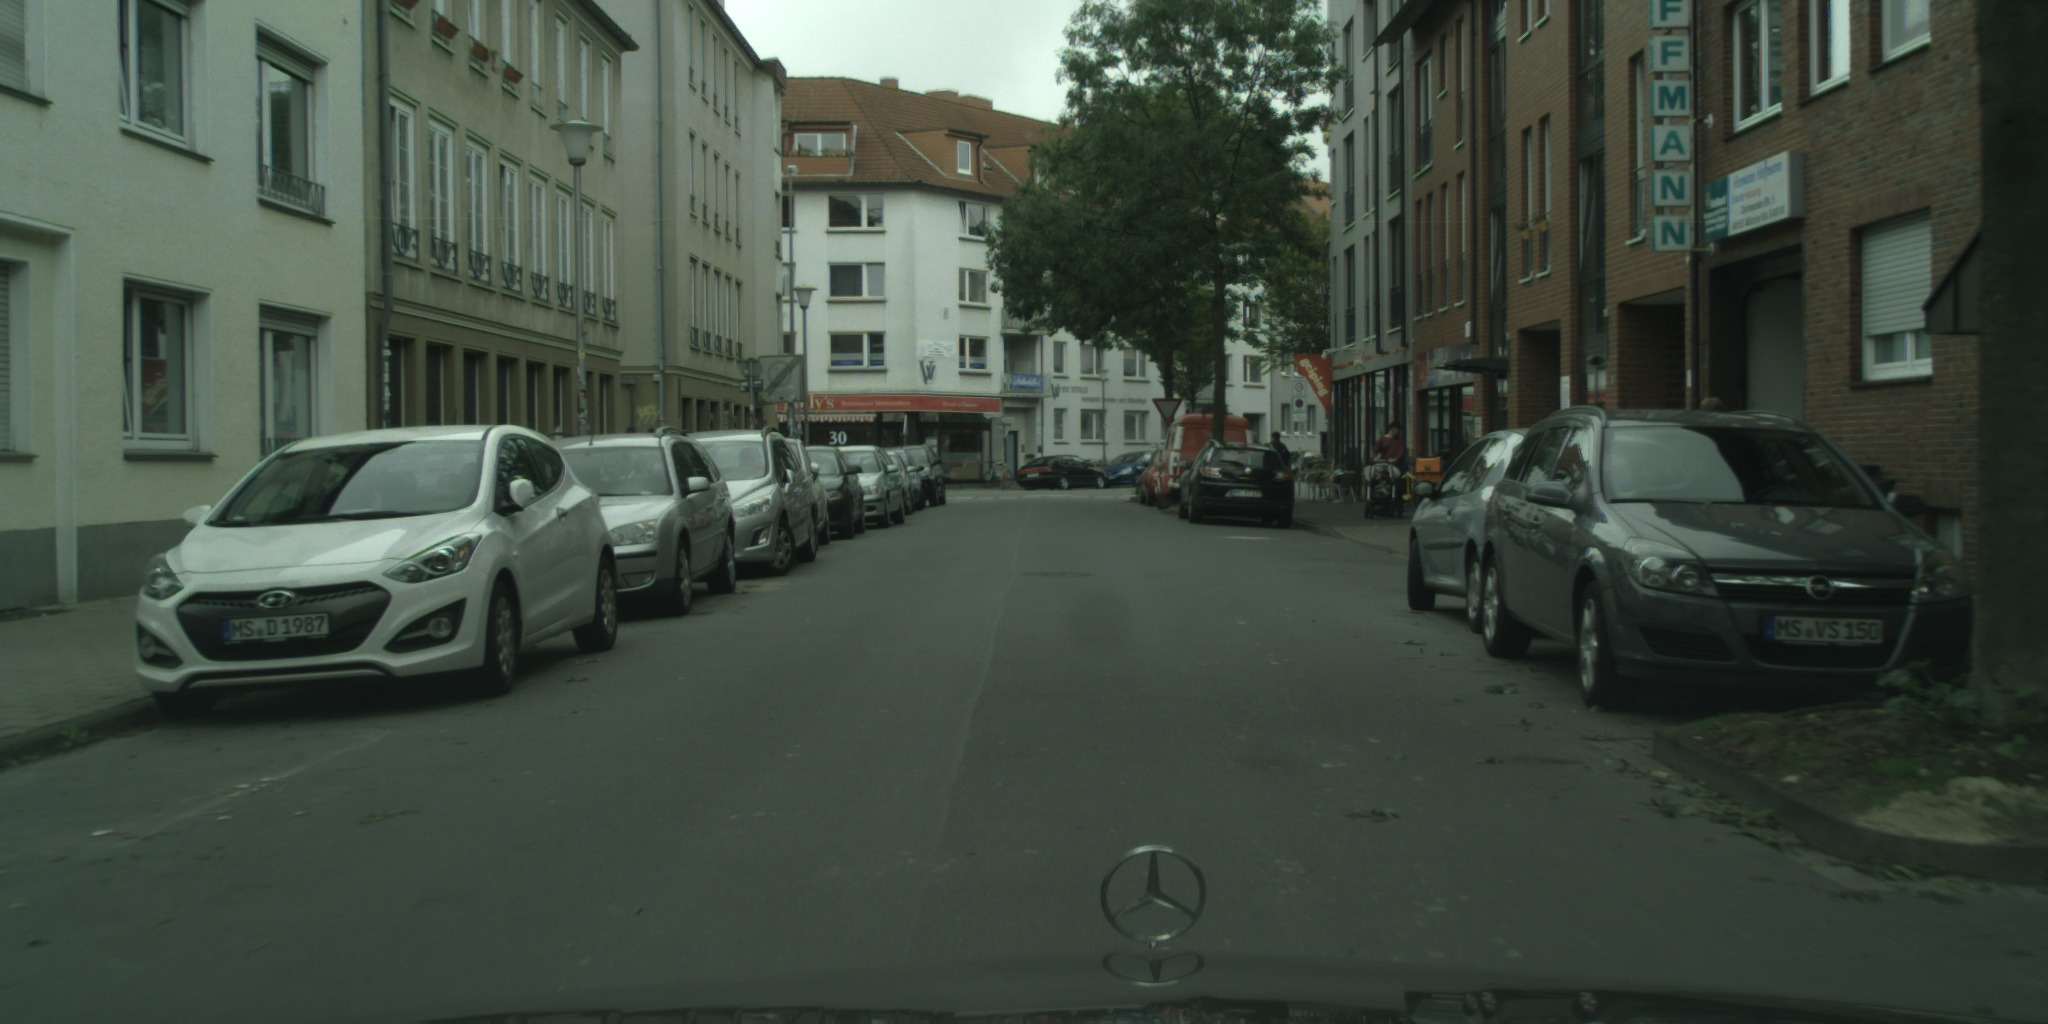bicycle: (979, 459, 1015, 491)
car: (1479, 404, 1984, 713), (132, 422, 620, 719), (537, 427, 737, 616), (1405, 425, 1543, 635), (675, 425, 819, 577), (1175, 440, 1294, 528), (1155, 413, 1261, 510), (797, 446, 866, 541), (834, 444, 906, 528), (780, 436, 831, 549), (1016, 454, 1111, 491), (872, 448, 927, 509), (868, 451, 915, 515), (904, 444, 948, 506), (1135, 445, 1173, 506), (1101, 450, 1162, 487), (1284, 450, 1319, 482)
person: (1371, 420, 1405, 518), (1261, 431, 1290, 486), (1695, 397, 1728, 419), (1330, 458, 1345, 504)
